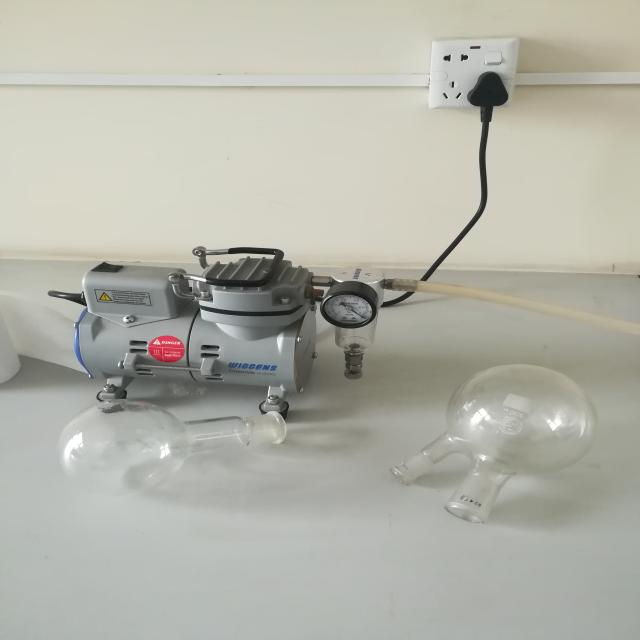Round_Bottom_Flask_Borosilicate_Glass_1_Neck: (24, 382, 338, 510)
Round_Bottom_Flask_Borosilicate_Glass_2_Neck: (375, 346, 630, 556)
